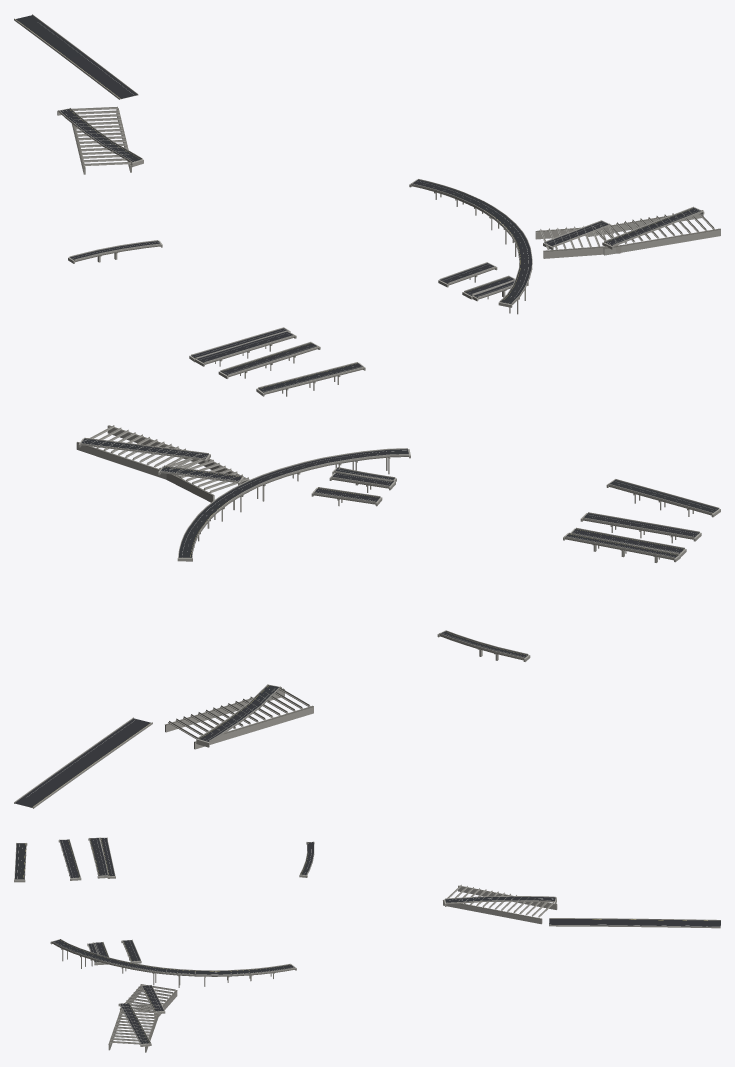
The model's file is br_h27_calgary_trail_1.gltf.
The picture shows the model from 3 angles, top to bottom: view 1: azimuth 30°, elevation 25°; view 2: azimuth 150°, elevation 25°; view 3: azimuth 270°, elevation 25°; orthographic projection. The views are drawn at different scales.
Parts seen in each view (by area): view 1: br_h27_calgary_trail_1; view 2: br_h27_calgary_trail_1; view 3: br_h27_calgary_trail_1.
Boxes of the visible parts, x1,y1,x2,y2 form: br_h27_calgary_trail_1: (14,14,720,396); br_h27_calgary_trail_1: (14,425,720,808); br_h27_calgary_trail_1: (14,837,720,1052).
Bounding box in the file's own units: 579 × 20.46 × 836.
